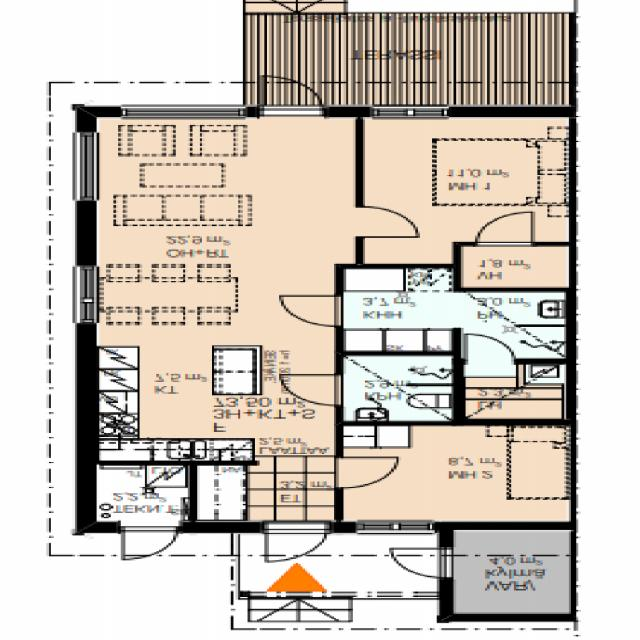door: (266, 521, 327, 565), (265, 76, 321, 117), (122, 521, 175, 562), (335, 457, 398, 487), (303, 296, 364, 326), (389, 549, 454, 576), (357, 208, 418, 236), (465, 330, 515, 364), (284, 390, 344, 417)
